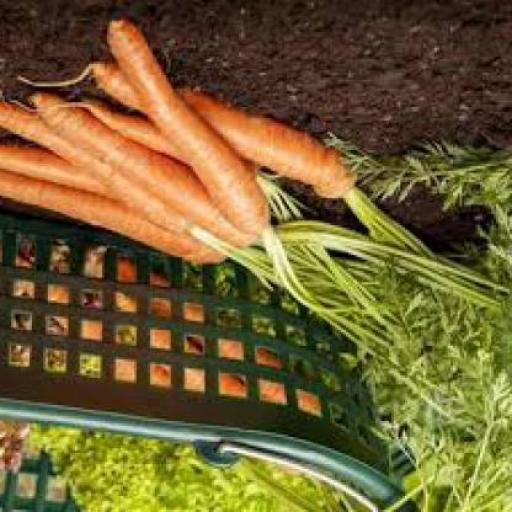biodegradable: (359, 145, 511, 511), (88, 61, 360, 202), (187, 179, 416, 342), (109, 24, 275, 238), (34, 98, 260, 250), (2, 102, 221, 252), (121, 264, 325, 422), (31, 424, 336, 510), (2, 173, 234, 271), (103, 284, 248, 402), (61, 100, 253, 184), (23, 276, 164, 389), (3, 143, 123, 210), (2, 421, 34, 475)
